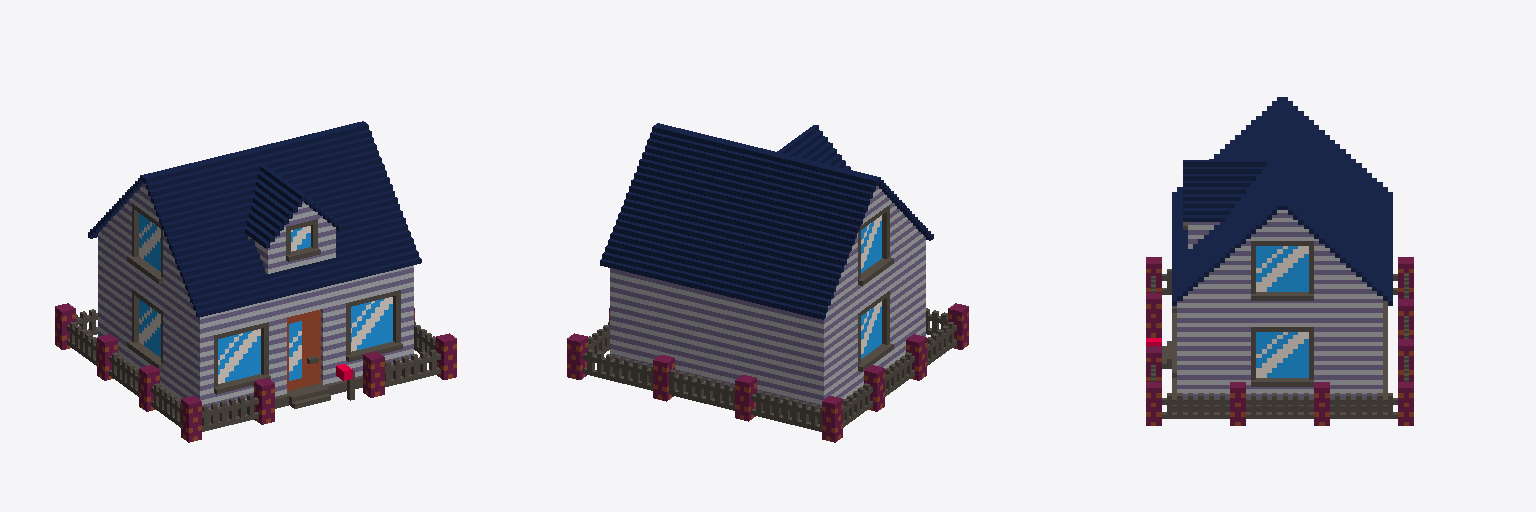
3 renders of one model, left to right at view 1: azimuth 30°, elevation 25°; view 2: azimuth 150°, elevation 25°; view 3: azimuth 270°, elevation 25°, orthographic.
Parts seen in each view (by area): view 1: object 1; view 2: object 1; view 3: object 1.
Part boxes in pixels (x1,y1,x2,y2): object 1: (55, 121, 456, 442); object 1: (567, 123, 968, 442); object 1: (1146, 97, 1413, 425).
Bounding box in the file's own units: 5.9 × 4.4 × 5.1.
Materials: 1 (1 with a texture image).